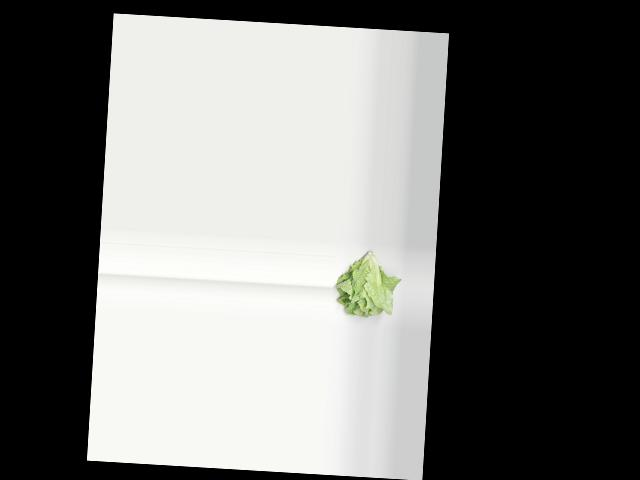lettuce: (329, 243, 401, 322)
